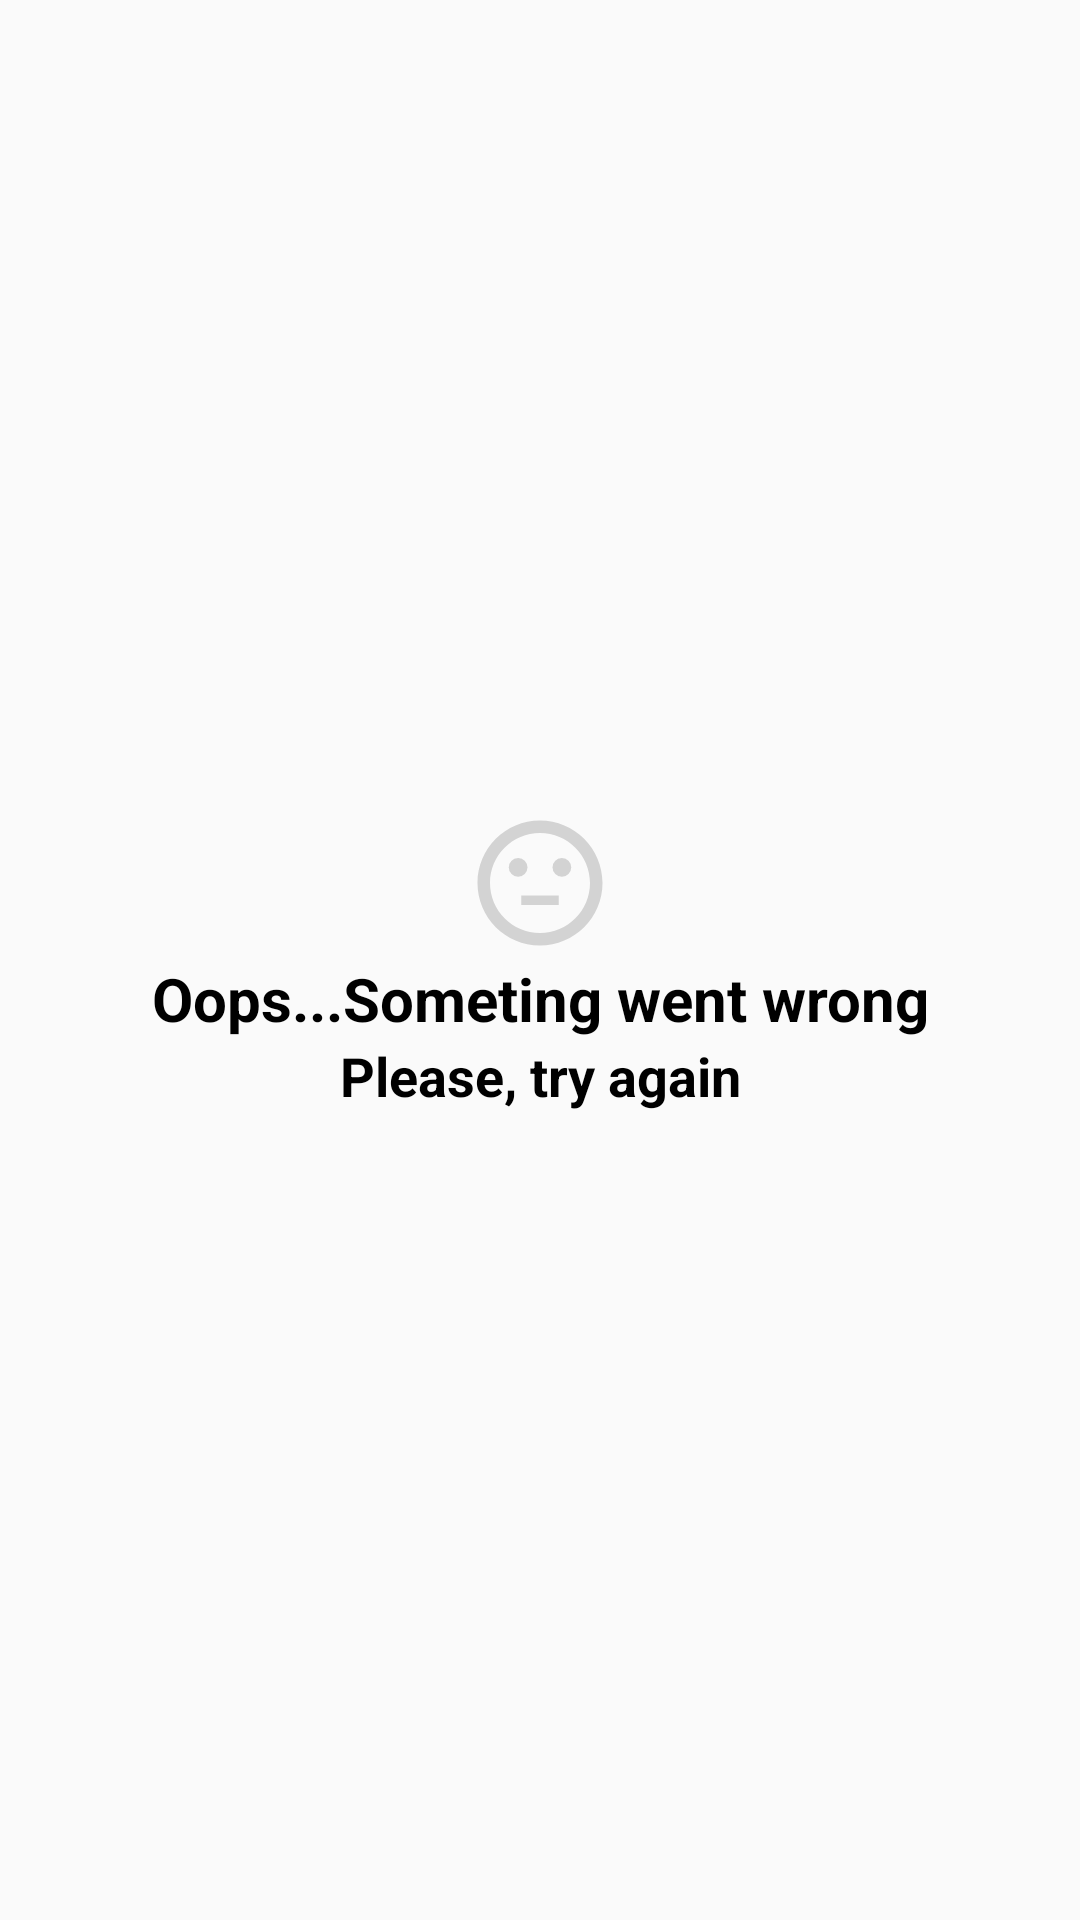

Screen size 1080 x 1920. Icon name, then its center in pixels as point (x, y):
sentiment neutral: point (540, 883)
